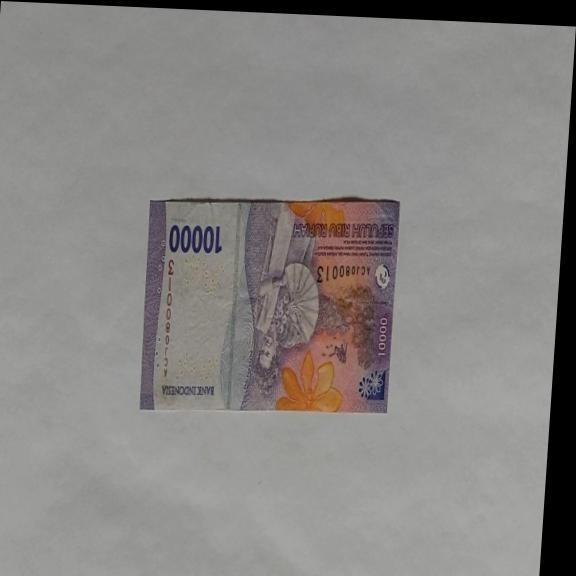Kertas: (136, 188, 401, 421)
